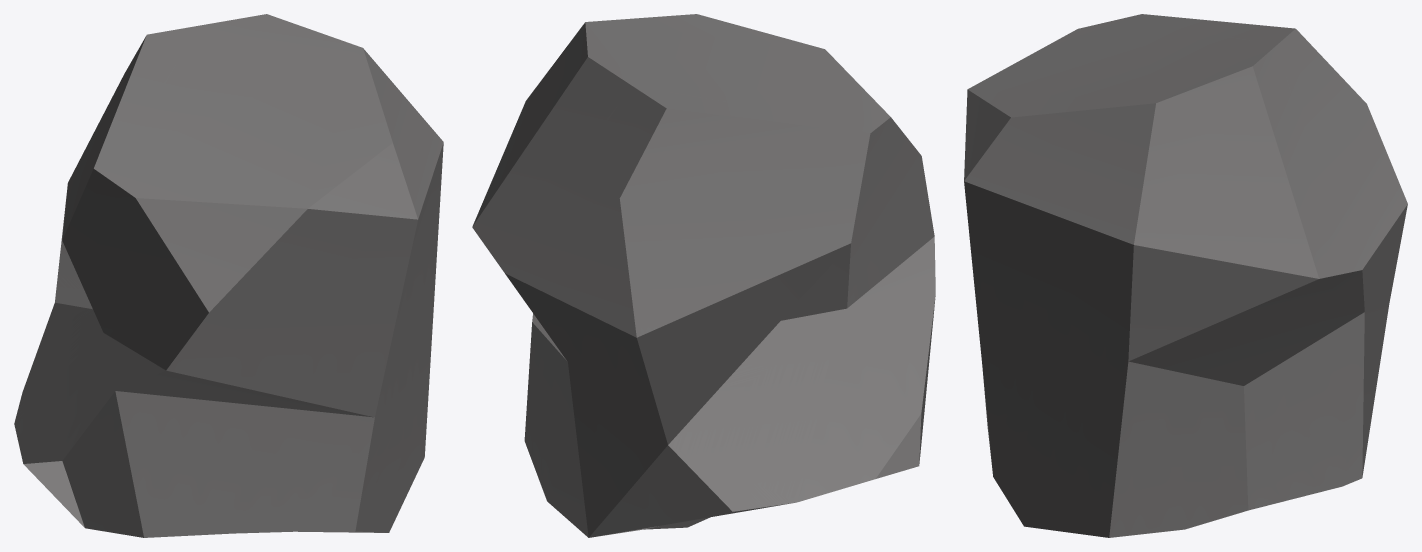
3 renders of one model, left to right at view 1: azimuth 30°, elevation 25°; view 2: azimuth 150°, elevation 25°; view 3: azimuth 270°, elevation 25°, orthographic. The views are drawn at different scales.
Visible parts, largest first — view 1: menhir_mini; view 2: menhir_mini; view 3: menhir_mini.
Part boxes in pixels (left/top/right/bottom): menhir_mini: left=14, top=14, right=443, bottom=537; menhir_mini: left=472, top=14, right=935, bottom=537; menhir_mini: left=964, top=14, right=1407, bottom=537.
Bounding box in the file's own units: 3.45 × 4.05 × 3.32.
Materials: 1 (1 with a texture image).
